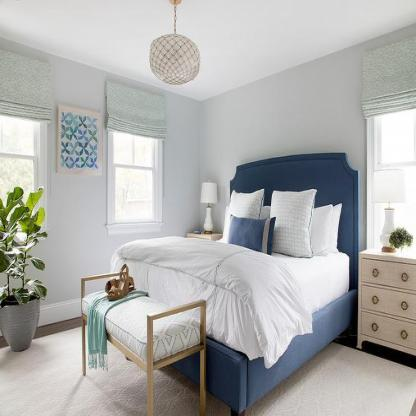Bed: (127, 153, 360, 396)
Carpet: (0, 329, 146, 416), (243, 344, 416, 416)
Lamp: (370, 166, 408, 249), (200, 180, 218, 234)
Nightstand: (356, 242, 416, 362)
Window: (107, 132, 163, 231)
